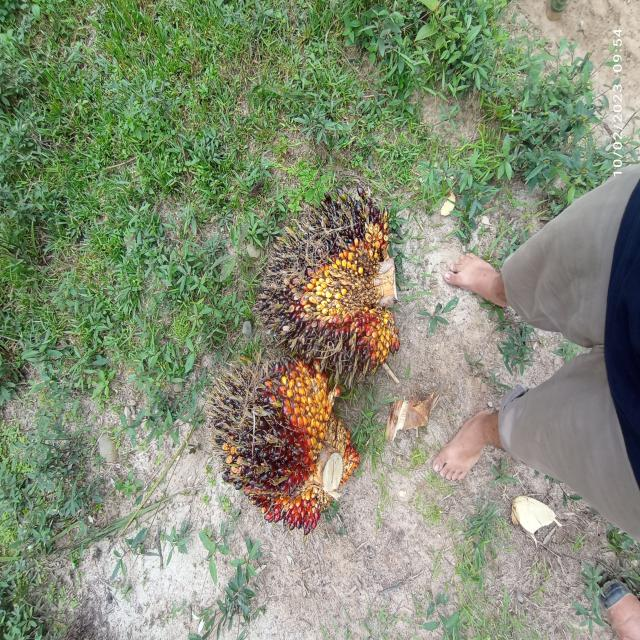fraksi 00: (217, 153, 447, 386), (170, 344, 388, 545)
